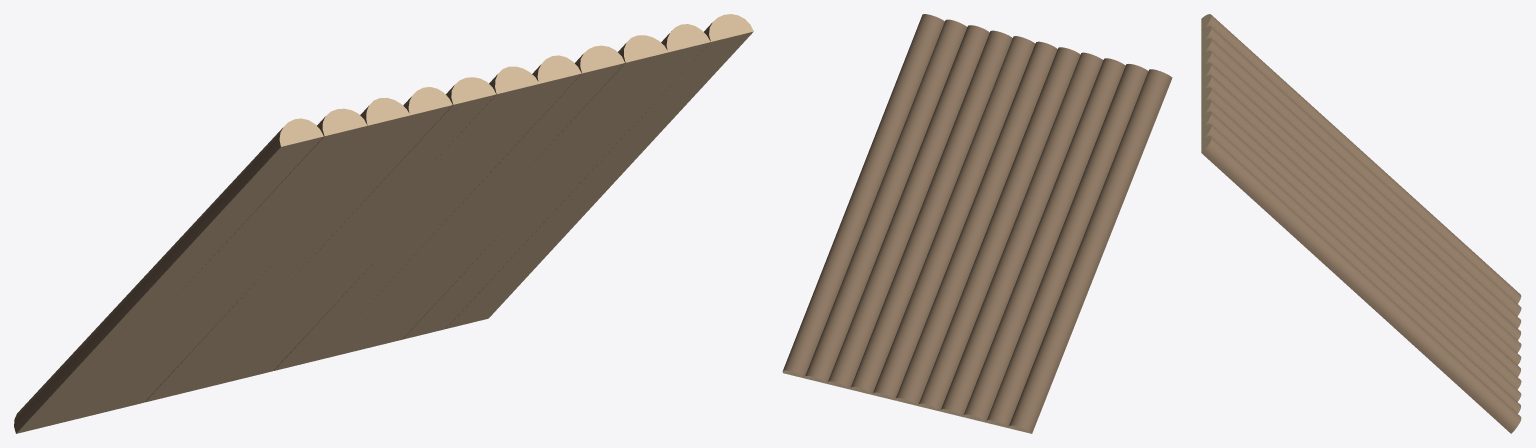
Rendered from log_roof_slope_steep.glb.
3 views of the same model, side by side, from view 1: azimuth 30°, elevation 25°; view 2: azimuth 150°, elevation 25°; view 3: azimuth 270°, elevation 25° (orthographic). The views are drawn at different scales.
Visible parts, largest first — view 1: Roof; view 2: Roof; view 3: Roof.
Part boxes in pixels (left/top/right/bottom): Roof: left=14, top=14, right=753, bottom=433; Roof: left=782, top=14, right=1172, bottom=433; Roof: left=1201, top=14, right=1521, bottom=433.
Size of the model in its own units: 3.09 by 3.1 by 3.1.
